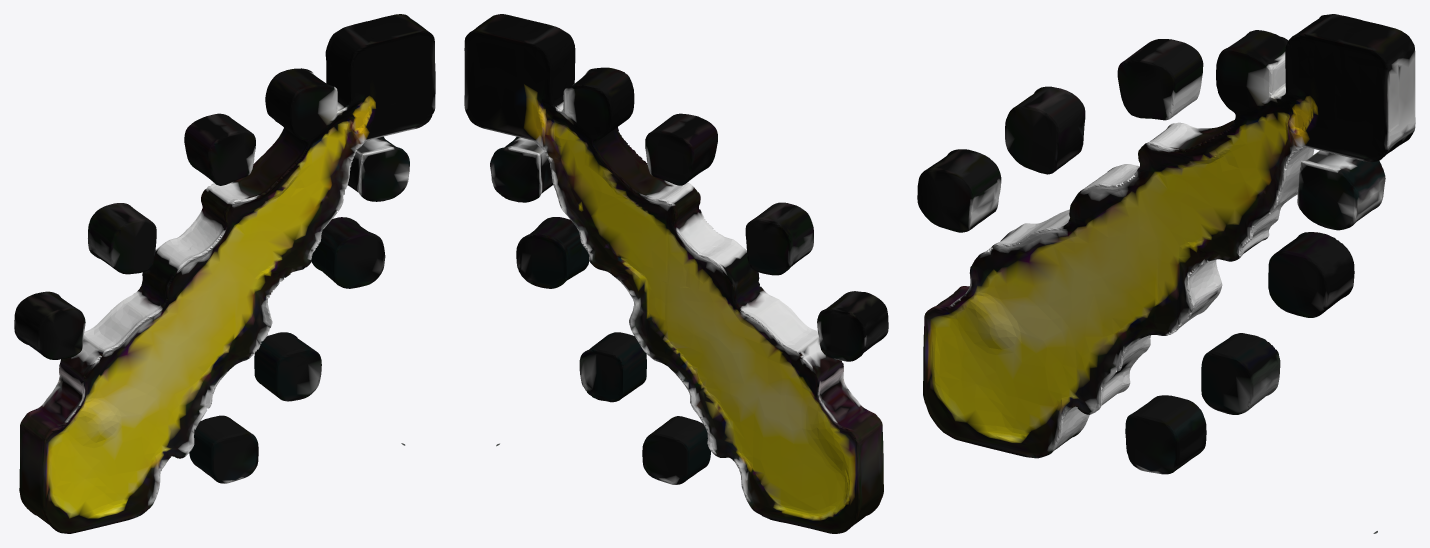
Rendered from gu_horn.glb.
3 views of the same model, side by side, from view 1: azimuth 30°, elevation 25°; view 2: azimuth 150°, elevation 25°; view 3: azimuth 330°, elevation 25° (orthographic). The views are drawn at different scales.
Visible parts, largest first — view 1: geometry_0; view 2: geometry_0; view 3: geometry_0.
Boxes of the visible parts, x1,y1,x2,y2 form: geometry_0: (14, 14, 435, 533); geometry_0: (464, 14, 888, 533); geometry_0: (917, 14, 1415, 533).
Bounding box in the file's own units: 0.8078 × 0.8125 × 0.0914.
